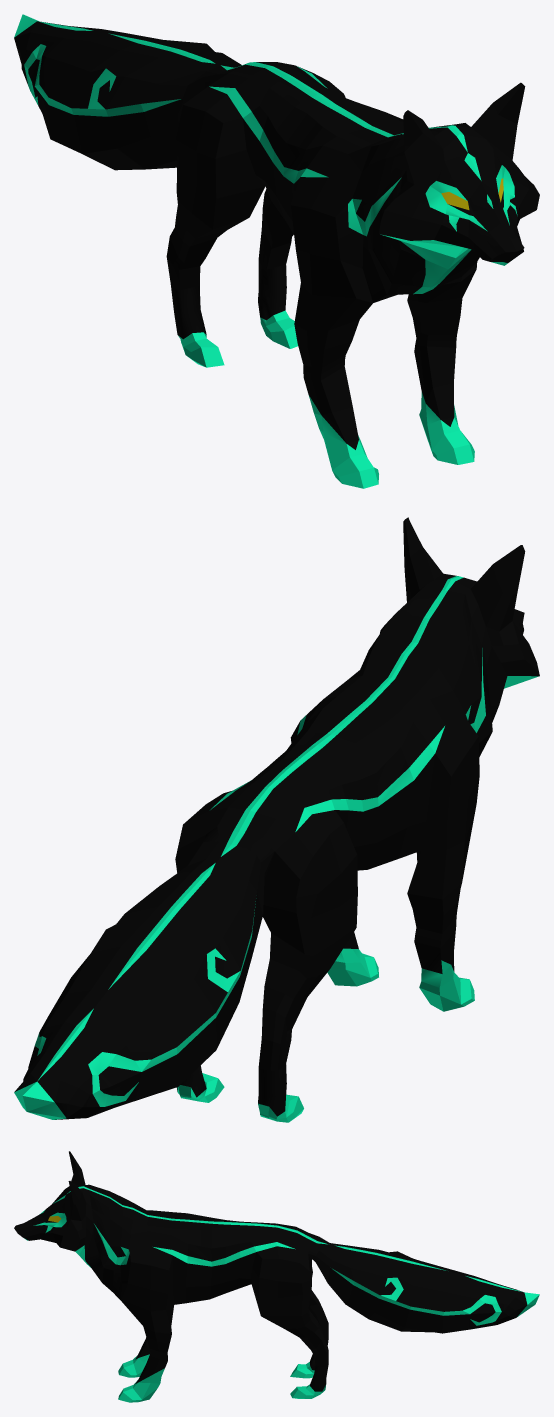
The model's file is FinalSpiritFoxAnim_RunCycle_JR.fbx.
The picture shows the model from 3 angles, top to bottom: view 1: azimuth 30°, elevation 25°; view 2: azimuth 150°, elevation 25°; view 3: azimuth 270°, elevation 25°; orthographic projection. The views are drawn at different scales.
Visible parts, largest first — view 1: SpiritFox_JR; view 2: SpiritFox_JR; view 3: SpiritFox_JR.
Part boxes in pixels (x1=…): SpiritFox_JR: x1=14, y1=14, x2=539, y2=488; SpiritFox_JR: x1=14, y1=517, x2=539, y2=1122; SpiritFox_JR: x1=14, y1=1151, x2=539, y2=1402.
Bounding box in the file's own units: 30.22 × 74.07 × 161.
